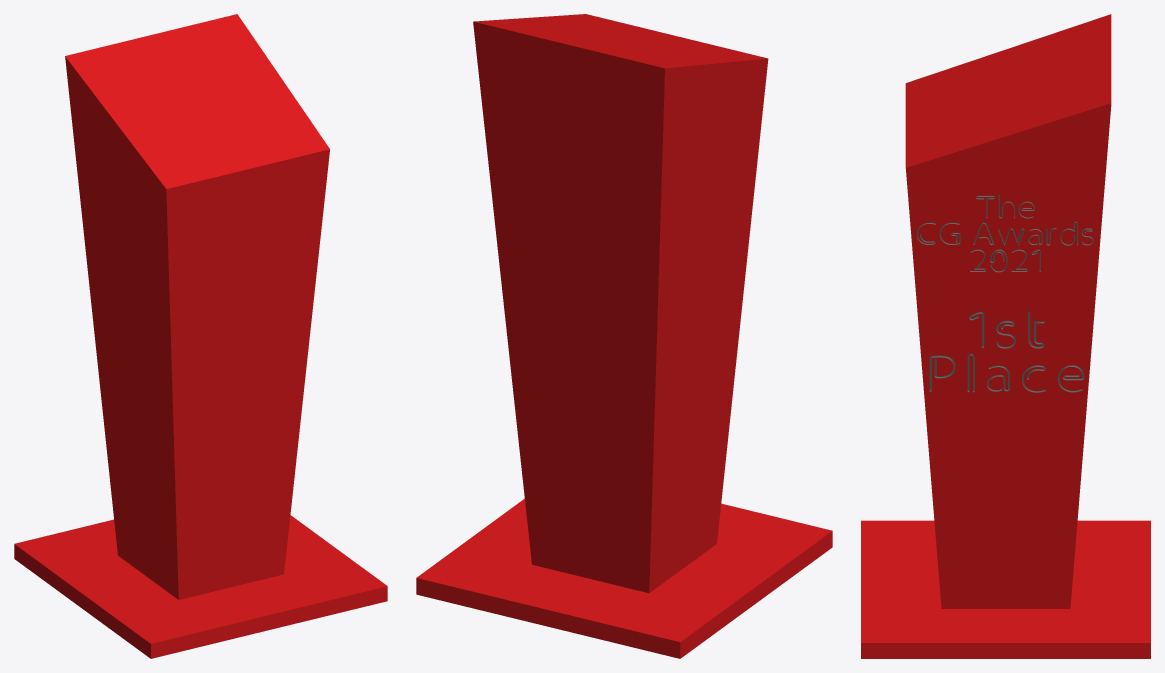
Rendered from ruby-trophy.glb.
3 renders of one model, left to right at view 1: azimuth 30°, elevation 25°; view 2: azimuth 150°, elevation 25°; view 3: azimuth 270°, elevation 25°, orthographic. The views are drawn at different scales.
Parts seen in each view (by area): view 1: Trophy; view 2: Trophy; view 3: Trophy.
Part boxes in pixels (x1,y1,x2,y2): Trophy: (14,14,387,658); Trophy: (416,14,832,658); Trophy: (861,14,1150,658).
Size of the model in its own units: 0.8605 by 1.77 by 0.8605.
